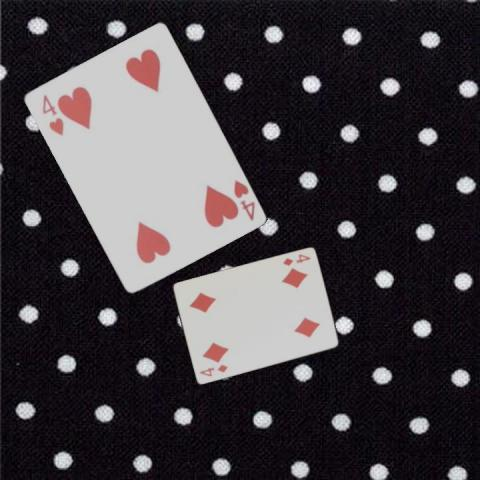4d: (197, 362, 229, 378), (280, 252, 312, 268)
4h: (38, 92, 64, 138), (230, 177, 256, 222)
